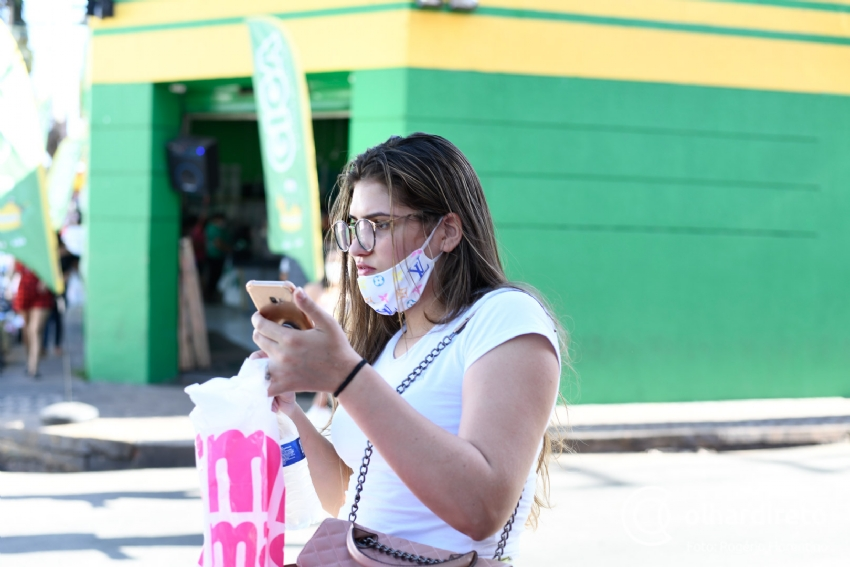mask_weared_incorrect: (319, 162, 470, 316)
